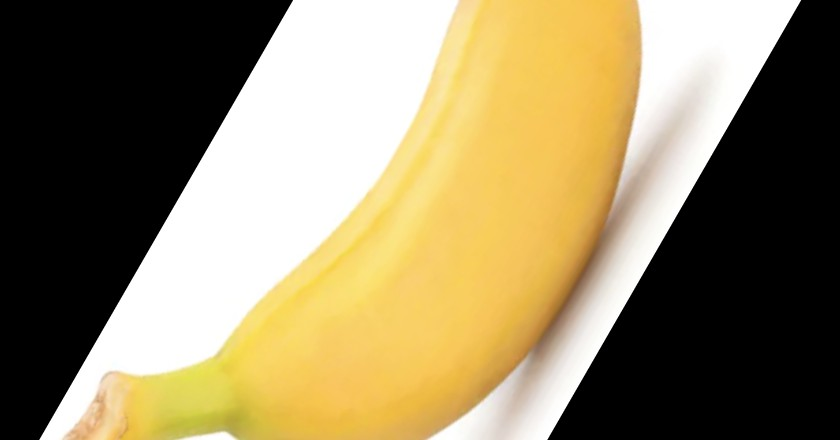fresh_banana: (68, 1, 643, 440)
